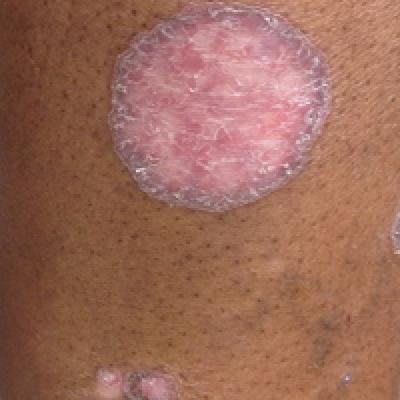annular lichen planus: (95, 1, 355, 225)
